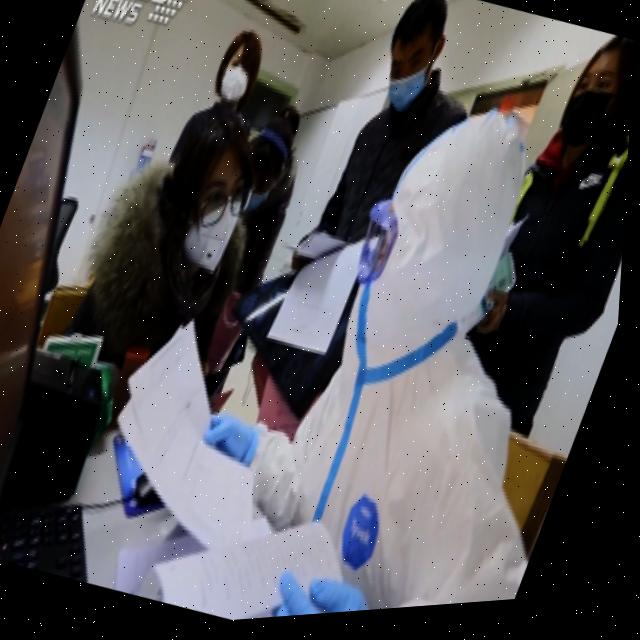Mask: (168, 181, 253, 282), (376, 31, 449, 129), (554, 71, 630, 163), (210, 58, 260, 113)
